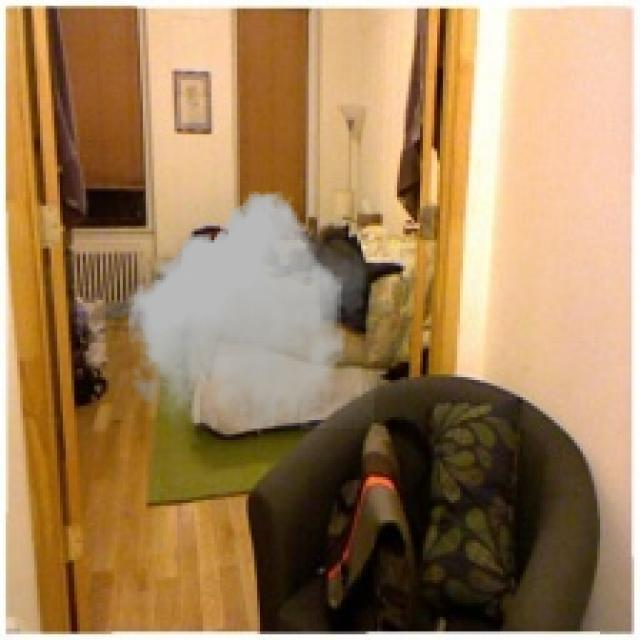Smoke: (123, 192, 374, 428)
